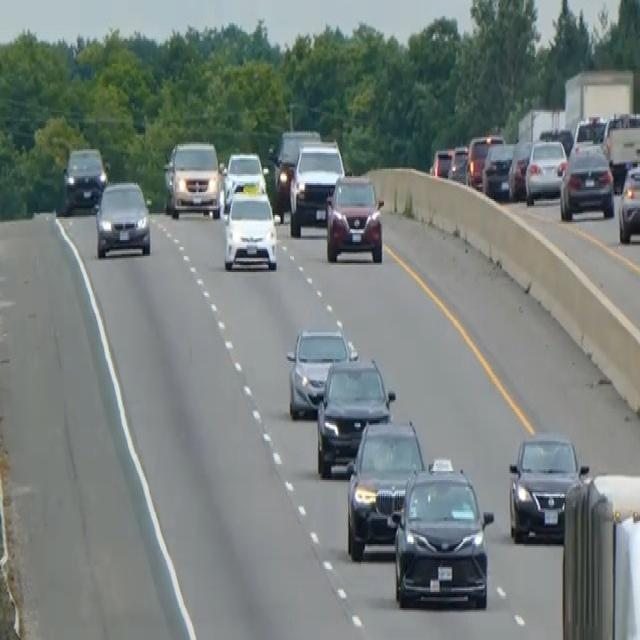car: (345, 416, 426, 560), (315, 356, 395, 476), (507, 430, 588, 542), (285, 324, 356, 419), (288, 137, 345, 235), (324, 173, 384, 263), (267, 126, 320, 217), (222, 187, 278, 270), (95, 178, 151, 258), (559, 144, 614, 220), (62, 144, 107, 210), (524, 137, 567, 204), (221, 150, 268, 207), (465, 132, 504, 186), (481, 141, 514, 199), (617, 160, 639, 244), (507, 137, 532, 199), (571, 114, 606, 153), (538, 125, 573, 156), (447, 142, 468, 183), (431, 146, 454, 178)
minivan: (389, 454, 495, 612), (163, 137, 222, 219)
